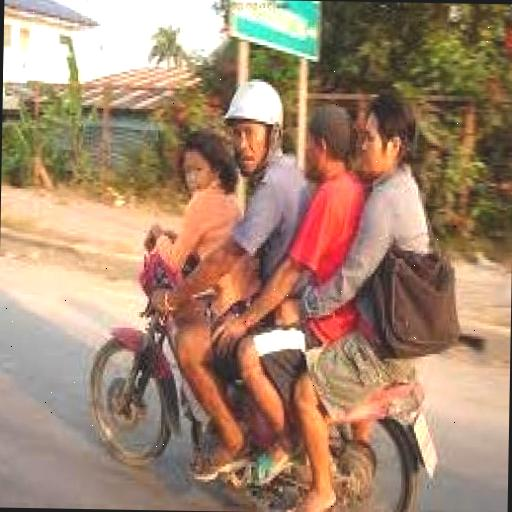helmet: (214, 76, 297, 198)
triple riding: (78, 65, 459, 512)
